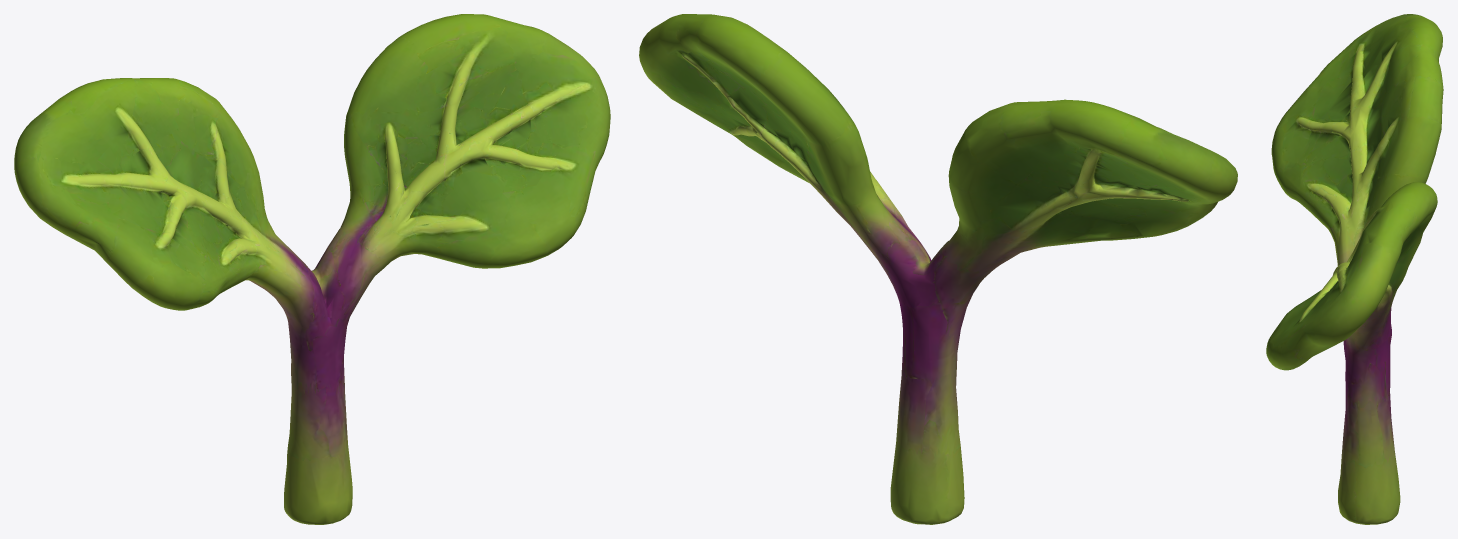
File: eggplant-sprout.glb
The picture shows the model from 3 angles, left to right: view 1: azimuth 30°, elevation 25°; view 2: azimuth 150°, elevation 25°; view 3: azimuth 270°, elevation 25°; orthographic projection. The views are drawn at different scales.
Bounding box in the file's own units: 1.9 × 1.45 × 0.5753.
Materials: 1 (1 with a texture image).
